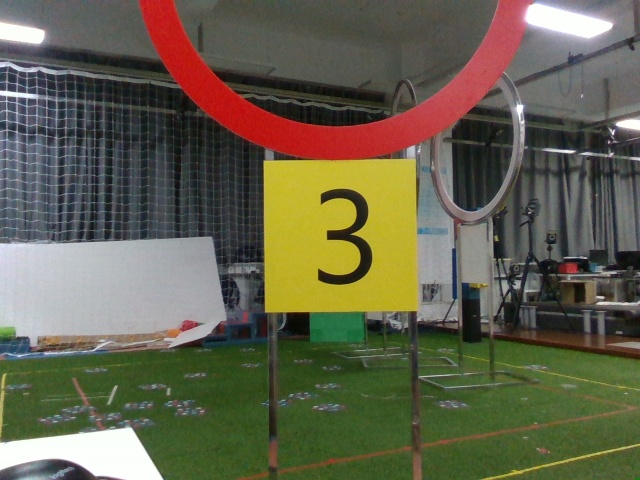target: (268, 168, 414, 302)
